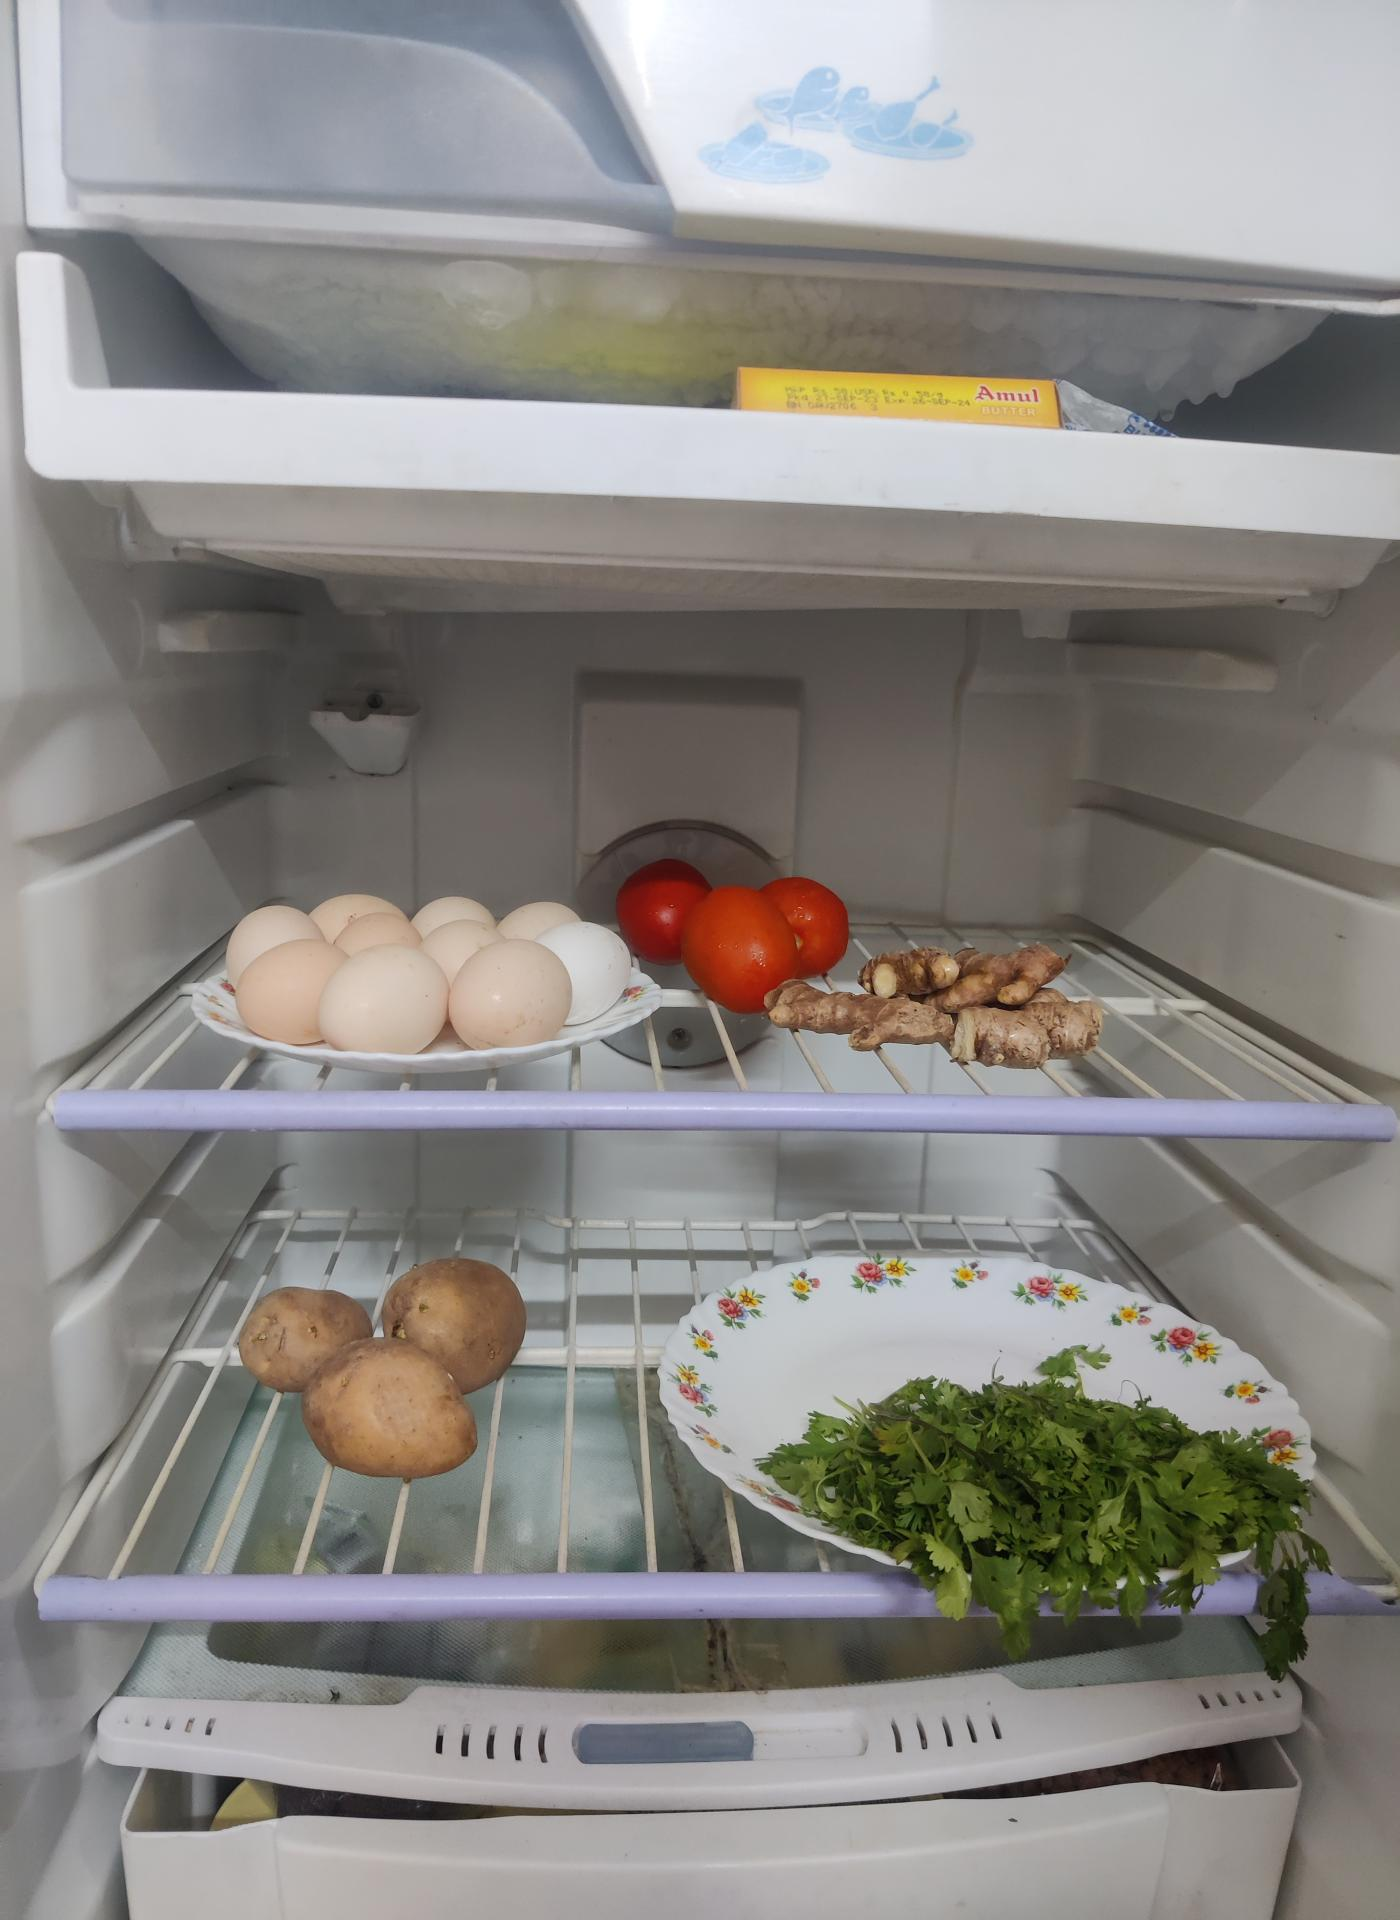coriander: (769, 1373, 1317, 1623)
egg: (227, 882, 620, 1051)
ginger: (763, 936, 1099, 1057)
potato: (236, 1254, 525, 1480)
tomato: (616, 854, 850, 1006)
